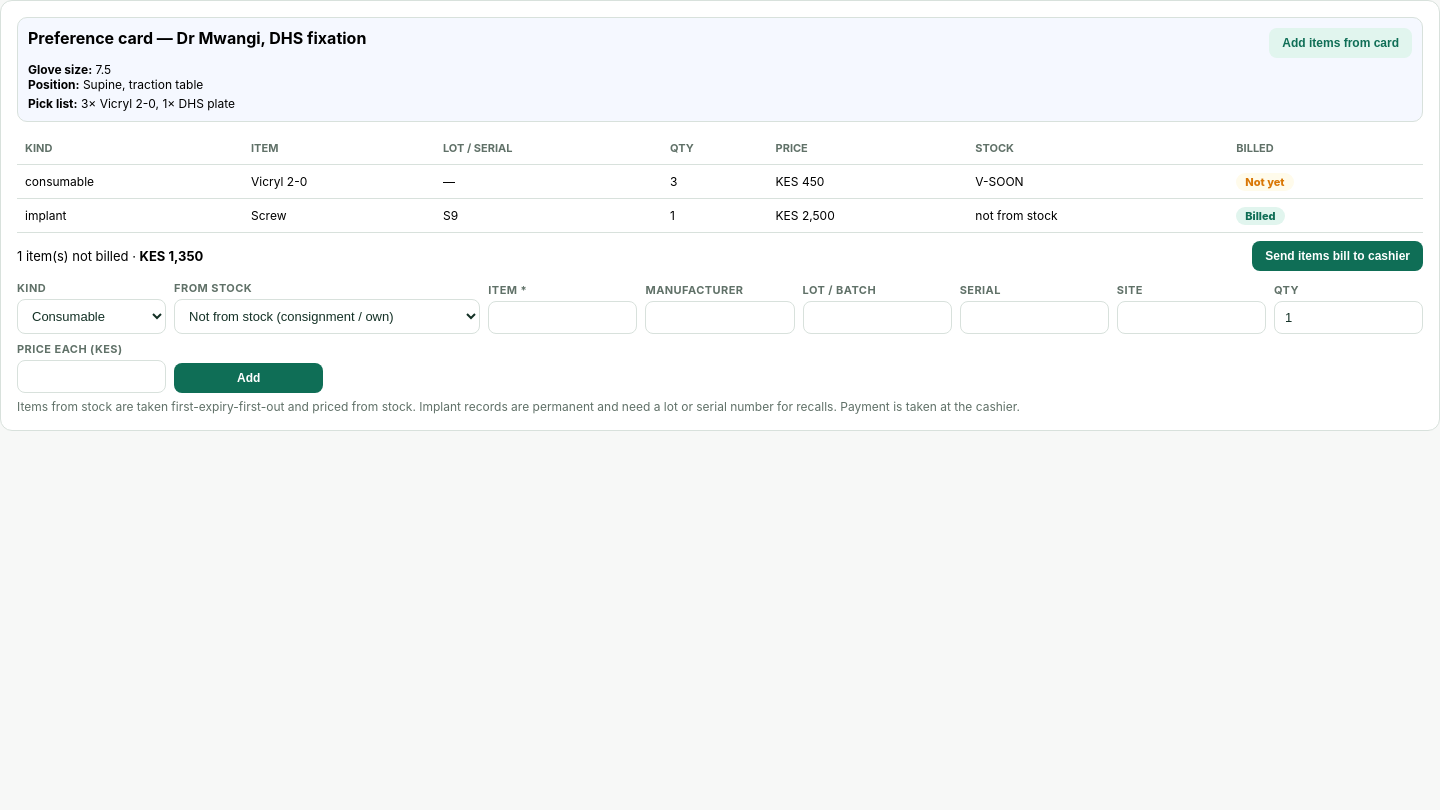
Scenario: theatre preference cards › case items: shows the card, adds non-implant items from it, and bills unbilled items once
The width and height of the screenshot is (1440, 810).
Later steps or results of the test are not shown.
Expected: the text "Preference card — Dr Mwangi, DHS fixation" is shown, [28, 28, 366, 58]
Click the button "Add items from card" at (1341, 43), box [1269, 28, 1412, 58]
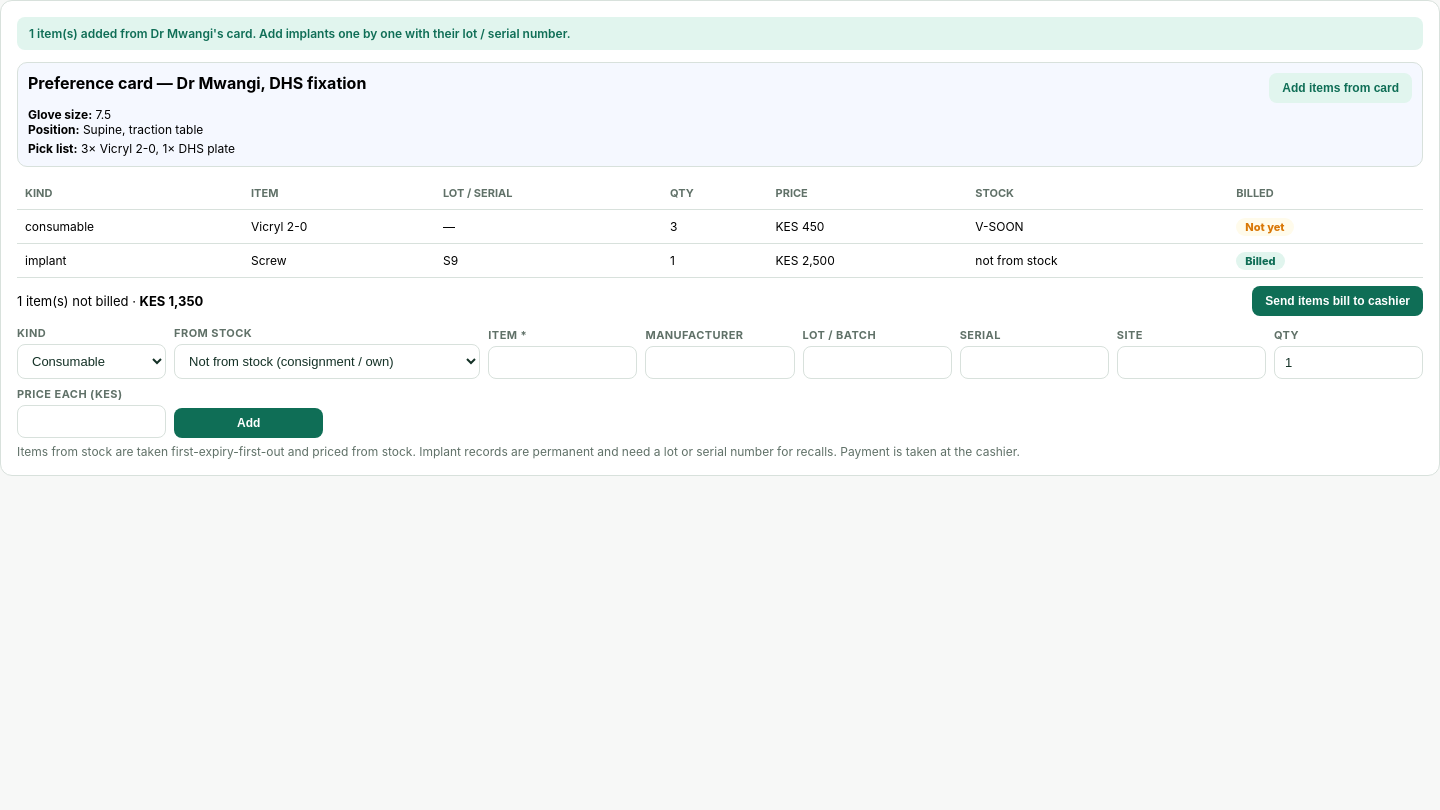
Expected: the text "V-SOON" is shown, [967, 210, 1228, 244]
Expected: the text "Add implants one by one" is shown, [29, 26, 570, 41]
